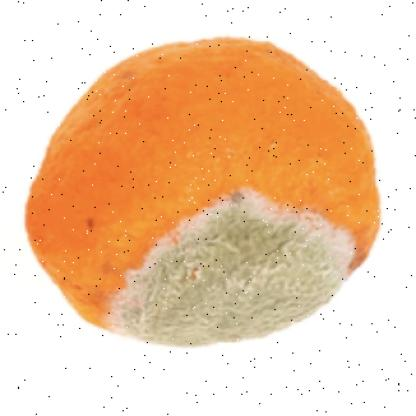rotten: (25, 38, 379, 346)
